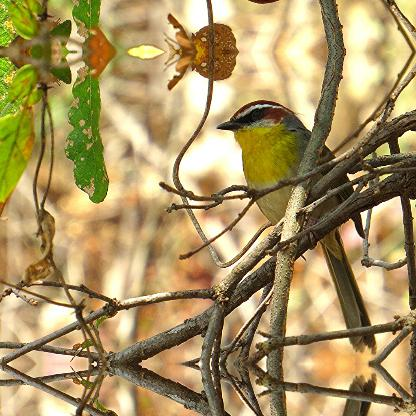Bird: (216, 99, 378, 355)
